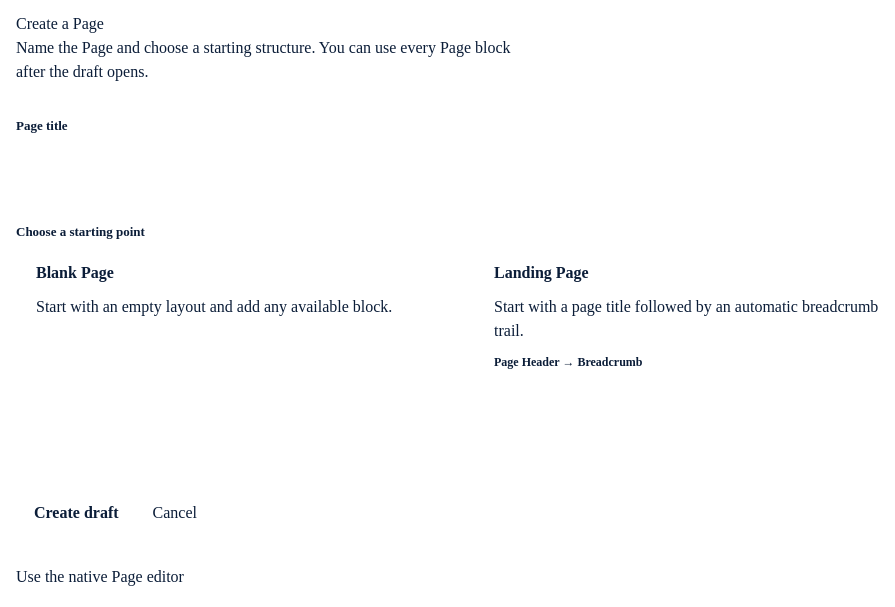
Scenario: Page recipe setup › rejects an empty title before requesting creation
The width and height of the screenshot is (895, 607).
Click the button "Create draft": (76, 513) [16,493,137,533]
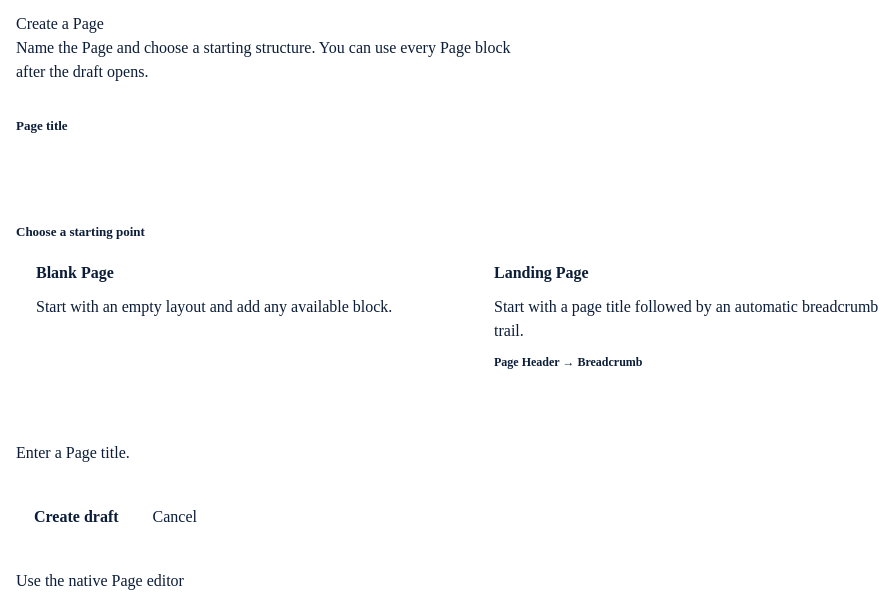
Result: the text "Enter a Page title." is shown at [16,444,130,461]
